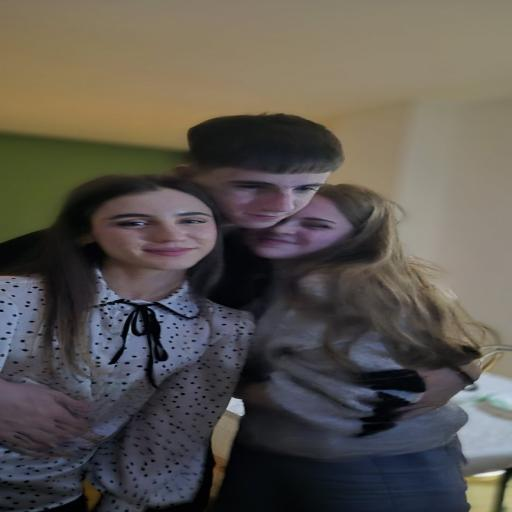masa: (90, 194, 215, 269)
